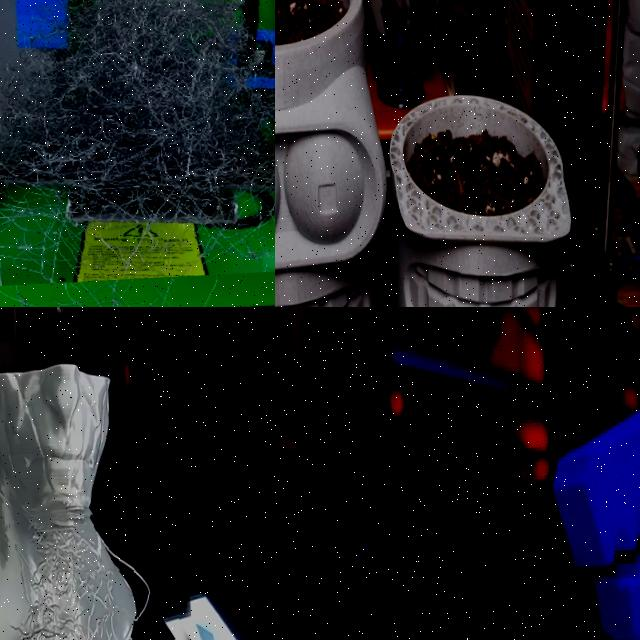spaghetti: (0, 0, 275, 286), (0, 499, 200, 640)
